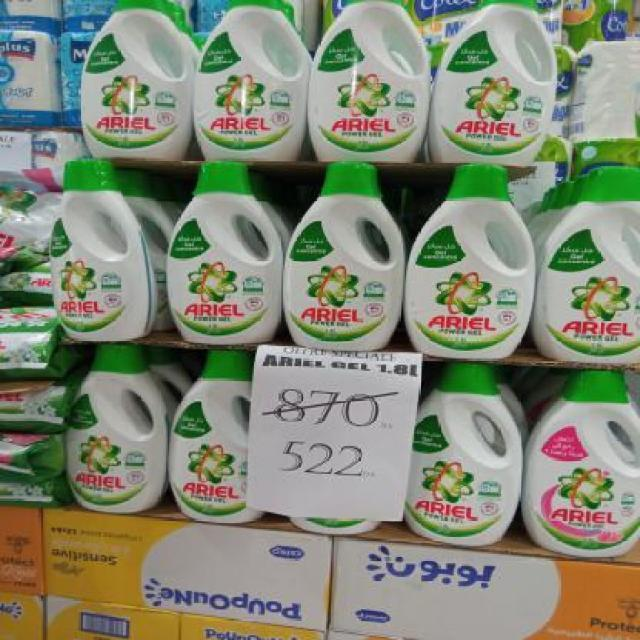Detergent: (405, 163, 537, 361), (285, 162, 407, 350), (521, 363, 639, 555), (163, 159, 283, 347), (534, 159, 638, 367), (430, 1, 553, 164), (42, 157, 148, 343), (416, 360, 522, 546), (310, 1, 428, 164), (195, 0, 307, 160), (67, 344, 167, 513), (80, 0, 186, 157), (168, 345, 246, 523)
